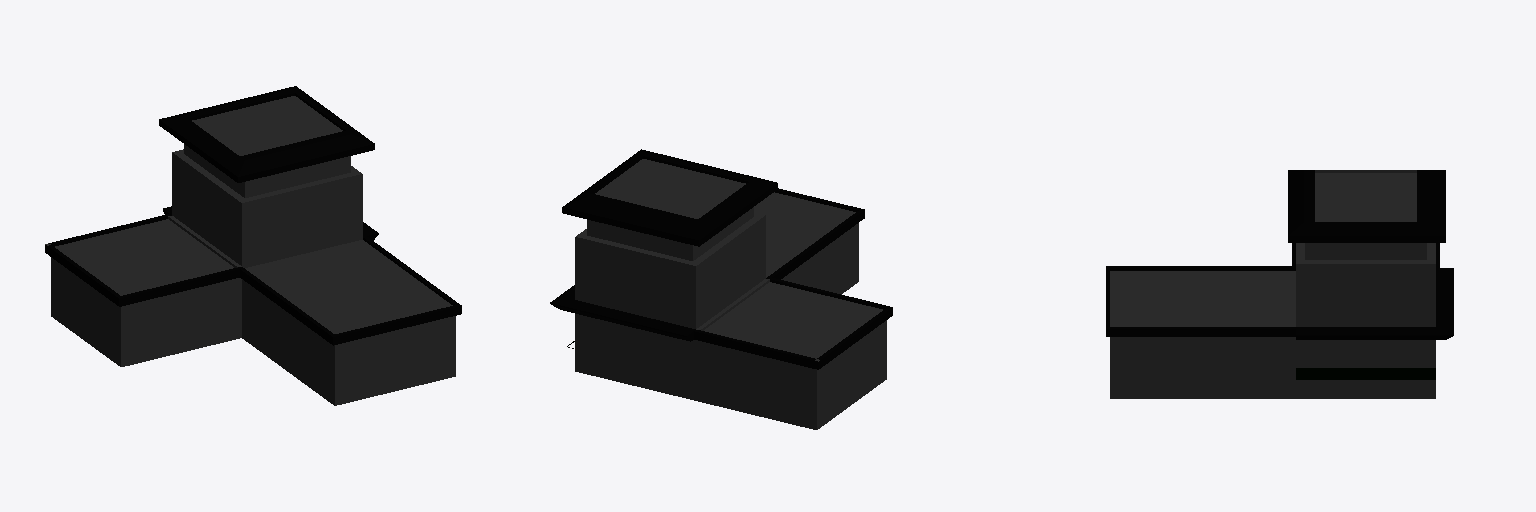
The model's file is plcstn.obj.
3 renders of one model, left to right at view 1: azimuth 30°, elevation 25°; view 2: azimuth 150°, elevation 25°; view 3: azimuth 270°, elevation 25°, orthographic.
Visible parts, largest first — view 1: Police; view 2: Police; view 3: Police.
Part boxes in pixels (left/top/right/bottom): Police: left=45, top=86, right=461, bottom=405; Police: left=550, top=149, right=892, bottom=429; Police: left=1106, top=170, right=1453, bottom=398.
Bounding box in the file's own units: 32.5 × 20.55 × 37.5.